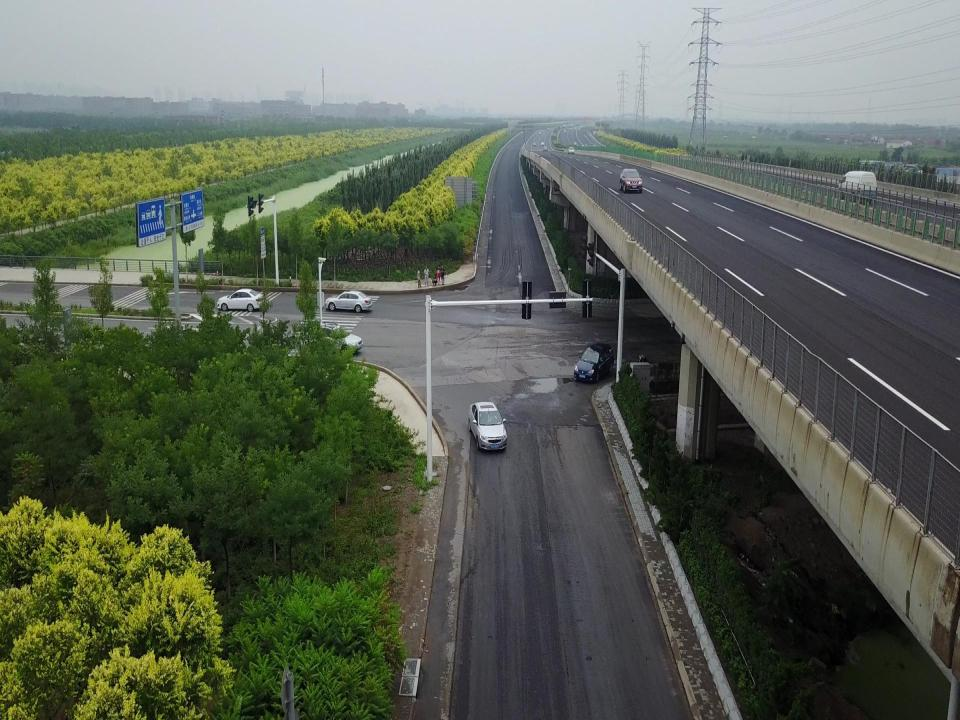car: (296, 313, 364, 355), (467, 399, 508, 451), (573, 342, 616, 380), (218, 285, 266, 314), (324, 286, 373, 312), (618, 168, 642, 191), (568, 145, 574, 154)
van: (839, 171, 877, 203)
